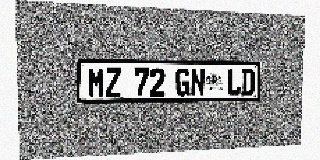2: (150, 68, 165, 97)
7: (134, 68, 149, 97)
D: (241, 69, 255, 95)
G: (176, 68, 190, 96)
L: (227, 69, 241, 96)
M: (88, 68, 105, 98)
N: (190, 68, 205, 96)
Z: (105, 68, 121, 97)
